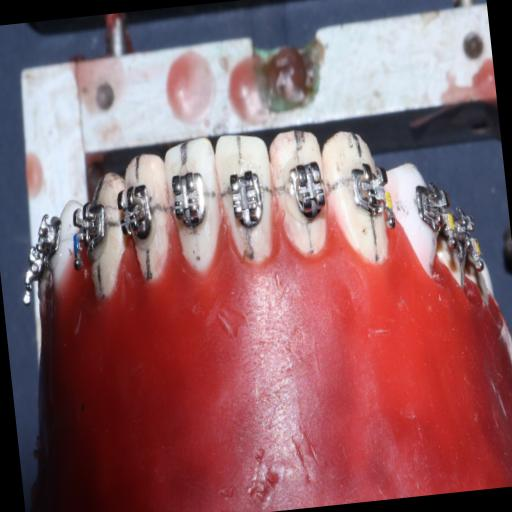incorrect_brace: (225, 167, 270, 235)
